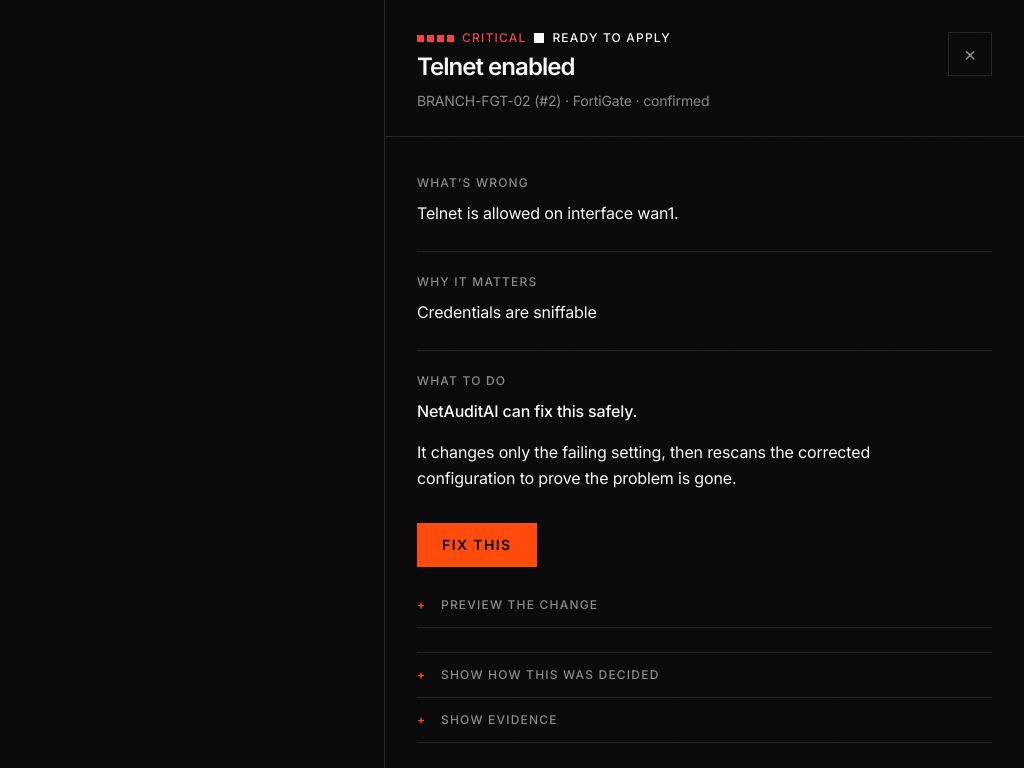
traces how a result was decided: requirement, check, the field it read, the line, the verdict
Click the button "Show how this was decided" at (550, 675), box [417,653,992,697]
(page scrolled)
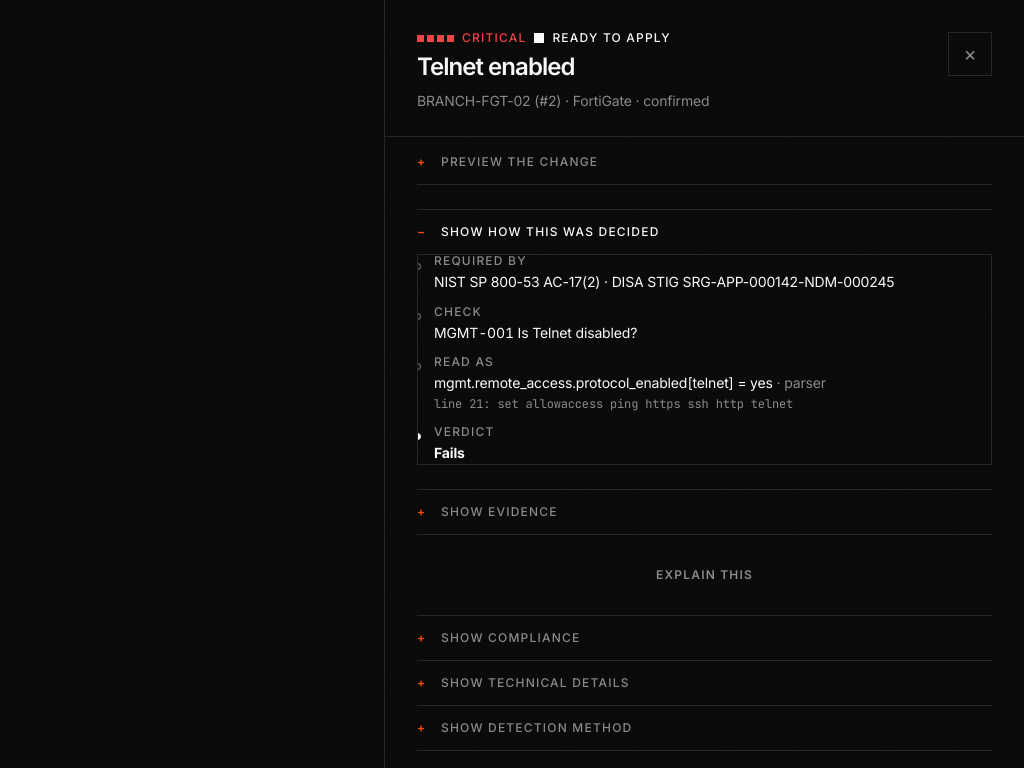
Check: the text "NIST SP 800-53 AC-17(2) · DISA STIG SRG-APP-000142-NDM-000245" is shown, box [434,273,894,290]
Check: the text "mgmt.remote_access.protocol_enabled[telnet] = yes" is shown, box [434,374,773,391]
Check: the text "line 21: set allowaccess ping https ssh http telnet" is shown, box [434,396,793,412]
